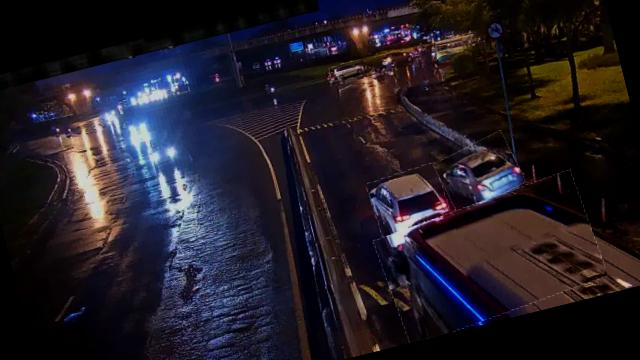Bus: (372, 172, 610, 344)
Car: (434, 132, 526, 214), (366, 163, 454, 241), (329, 58, 366, 84)
